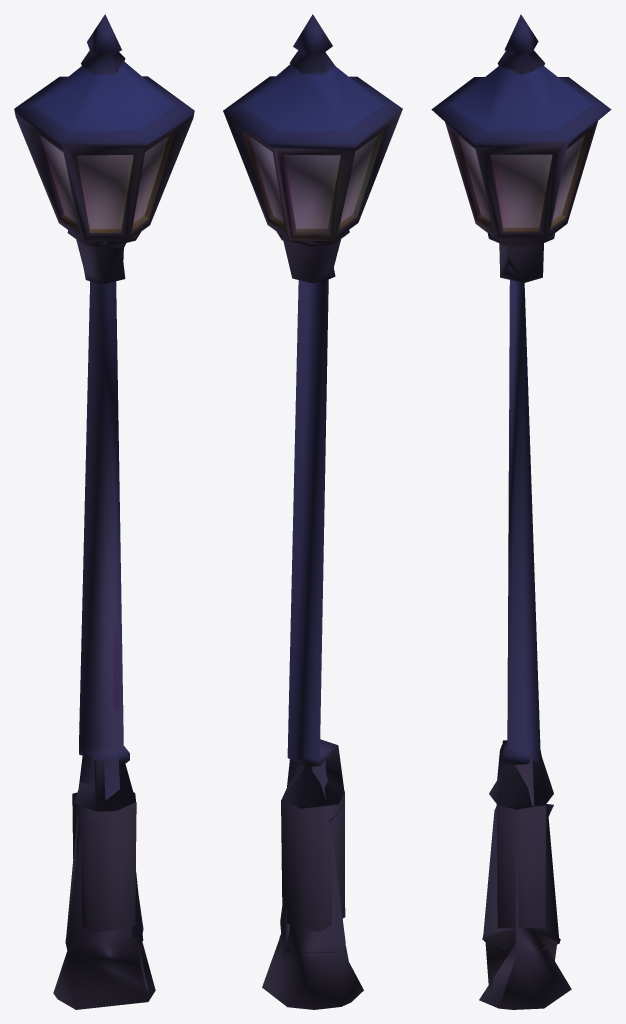
The model's file is model.progressive.glb.
The picture shows the model from 3 angles, left to right: view 1: azimuth 30°, elevation 25°; view 2: azimuth 150°, elevation 25°; view 3: azimuth 270°, elevation 25°; orthographic projection.
Parts seen in each view (by area): view 1: material; view 2: material; view 3: material.
Part boxes in pixels (box(x1,y1,x2,y2)): material: box(14, 14, 194, 1009); material: box(223, 14, 402, 1009); material: box(431, 14, 611, 1009).
Size of the model in its own units: 0.2715 by 1.9 by 0.3182.
1 material, 1 textured.
